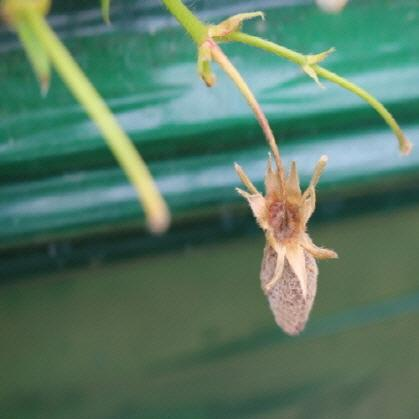Gray Mold: (245, 156, 339, 336)
